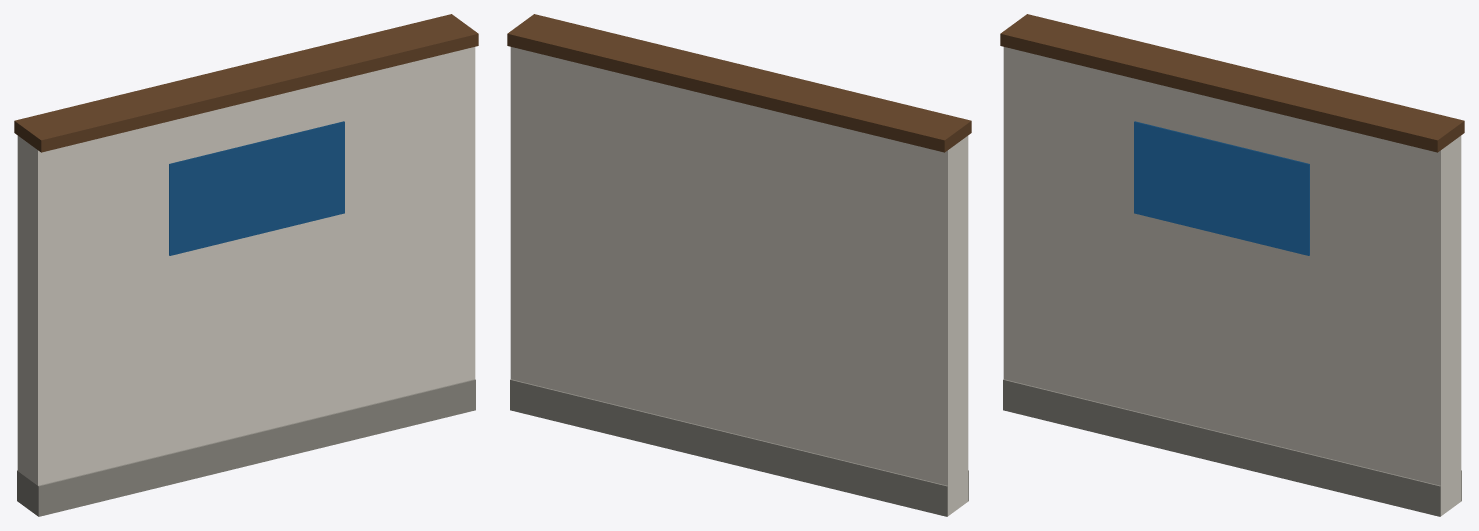
The model's file is ac_partition.glb.
3 views of the same model, side by side, from view 1: azimuth 30°, elevation 25°; view 2: azimuth 150°, elevation 25°; view 3: azimuth 330°, elevation 25° (orthographic).
Visible parts, largest first — view 1: ac_partition; view 2: ac_partition; view 3: ac_partition.
Part boxes in pixels (left/top/right/bottom): ac_partition: left=14, top=14, right=478, bottom=516; ac_partition: left=507, top=14, right=971, bottom=516; ac_partition: left=1000, top=14, right=1464, bottom=516.
Size of the model in its own units: 1.5 by 1.24 by 0.16.
